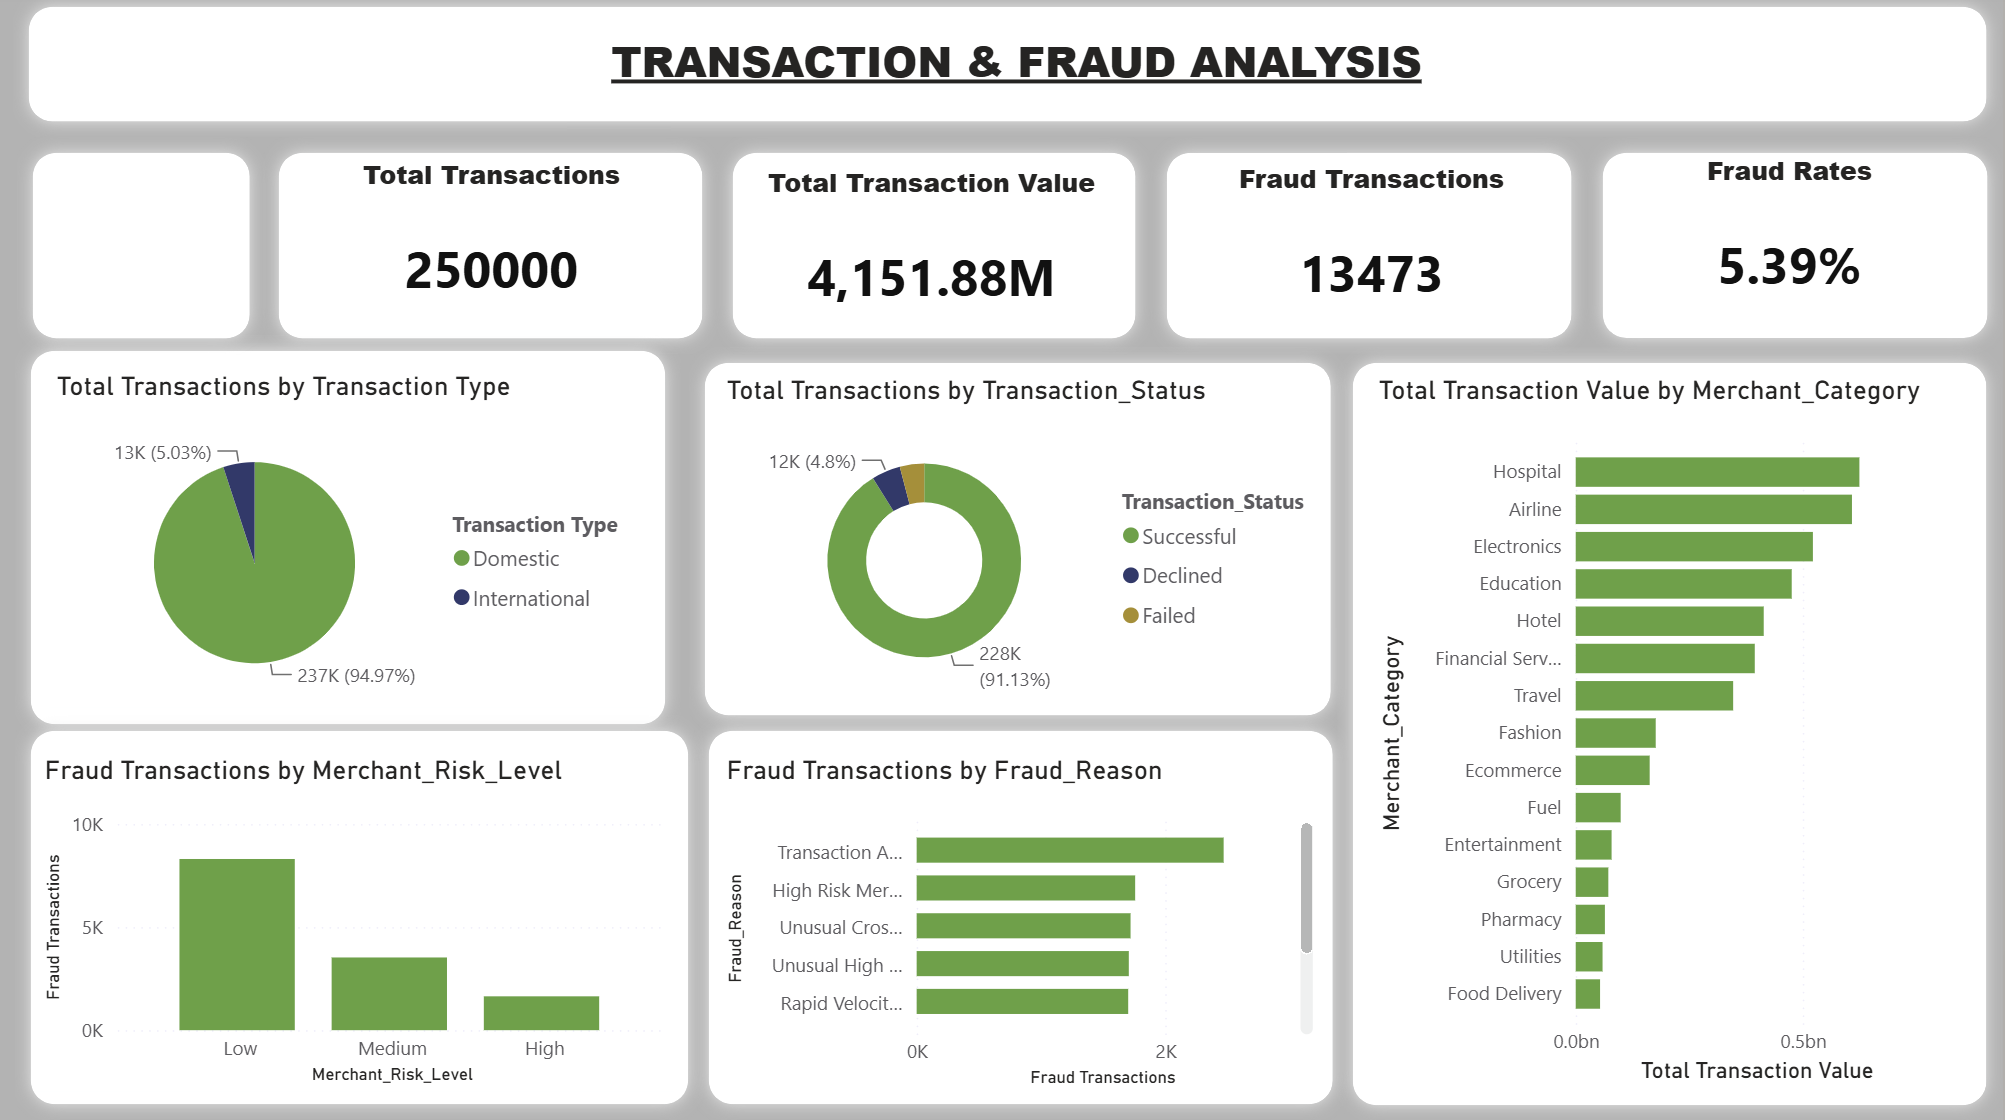

The dashboard page shown, as its layout file describes it:
{"tool":"powerbi","page":{"name":"Transaction & Fraud Analysis ","canvas":[1280,720],"ordinal":2},"visuals":[{"type":"shape","box":[170.9,93.5,290.1,138.4],"z":0},{"type":"shape","box":[460.4,93.1,276.8,138.4],"z":1},{"type":"shape","box":[737.1,93.1,278.1,138.4],"z":2},{"type":"shape","box":[1014.7,93.1,265.3,138.1],"z":3},{"type":"shape","box":[856,227.3,424,493.3],"z":4},{"type":"shape","box":[12.9,219.2,424.4,258.1],"z":5},{"type":"shape","box":[442.4,226.9,419.1,244.8],"z":6},{"type":"shape","box":[444.4,461.9,417.8,258.1],"z":7},{"type":"shape","box":[12.9,461.9,439.1,258.1],"z":9},{"type":"shape","box":[13.8,93.4,158.3,138.4],"z":10},{"type":"shape","box":[12,0,1268,93.1],"z":11},{"type":"textbox","box":[43.5,21,1215.5,53.2],"z":12},{"type":"cardVisual","title":"Total Transactions","fields":{"Data":["FactTransaction.Total Transactions"]},"box":[201.5,106.4,230.2,121.1],"z":13},{"type":"cardVisual","title":"Total Transaction Value","fields":{"Data":["FactTransaction.Total Transaction Value"]},"box":[482,111.2,230.2,121.1],"z":14},{"type":"cardVisual","title":"Fraud Transactions","fields":{"Data":["FactTransaction.Fraud Transactions"]},"box":[762.5,108,230.2,121.1],"z":15},{"type":"cardVisual","title":"Fraud Rates ","fields":{"Data":["FactTransaction.Fraud Rate"]},"box":[1028.5,103.2,230.2,121.1],"z":16},{"type":"donutChart","fields":{"Category":["FactTransaction.Transaction_Status"],"Y":["FactTransaction.Total Transactions"]},"box":[461.1,245,383.7,206.3],"z":18},{"type":"barChart","fields":{"Category":["FactTransaction.Merchant_Category"],"Y":["FactTransaction.Total Transaction Value"]},"box":[877,245,382.1,456.2],"z":19},{"type":"columnChart","fields":{"Category":["DimMerchant.Merchant_Risk_Level"],"Y":["FactTransaction.Fraud Transactions"]},"box":[27.4,486.9,406.2,214.4],"z":20},{"type":"clusteredBarChart","fields":{"Category":["FactTransaction.Fraud_Reason"],"Y":["FactTransaction.Fraud Transactions"]},"box":[461.1,486.9,383.7,216],"z":21},{"type":"pieChart","fields":{"Category":["FactTransaction.Transaction Type"],"Y":["FactTransaction.Total Transactions"]},"box":[33.9,241.8,382.1,214.4],"z":22}]}

Visuals, with their boxes in screenshot pixels (x1, y1, x2, y2), scaled from the page's 1280x720 canvas onto the 2006x1120 screenshot:
shape: Rect(268, 145, 722, 361)
shape: Rect(722, 145, 1155, 360)
shape: Rect(1155, 145, 1591, 360)
shape: Rect(1590, 145, 2005, 360)
shape: Rect(1342, 354, 2005, 1119)
shape: Rect(20, 341, 685, 742)
shape: Rect(693, 353, 1350, 734)
shape: Rect(696, 719, 1351, 1119)
shape: Rect(20, 719, 708, 1119)
shape: Rect(22, 145, 270, 361)
shape: Rect(19, 0, 2005, 145)
textbox: Rect(68, 33, 1973, 115)
"Total Transactions" cardVisual: Rect(316, 166, 677, 354)
"Total Transaction Value" cardVisual: Rect(755, 173, 1116, 361)
"Fraud Transactions" cardVisual: Rect(1195, 168, 1556, 356)
"Fraud Rates " cardVisual: Rect(1612, 161, 1973, 349)
donutChart - FactTransaction.Transaction_Status x FactTransaction.Total Transactions: Rect(723, 381, 1324, 702)
barChart - FactTransaction.Merchant_Category x FactTransaction.Total Transaction Value: Rect(1374, 381, 1973, 1091)
columnChart - DimMerchant.Merchant_Risk_Level x FactTransaction.Fraud Transactions: Rect(43, 757, 680, 1091)
clusteredBarChart - FactTransaction.Fraud_Reason x FactTransaction.Fraud Transactions: Rect(723, 757, 1324, 1093)
pieChart - FactTransaction.Transaction Type x FactTransaction.Total Transactions: Rect(53, 376, 652, 710)
